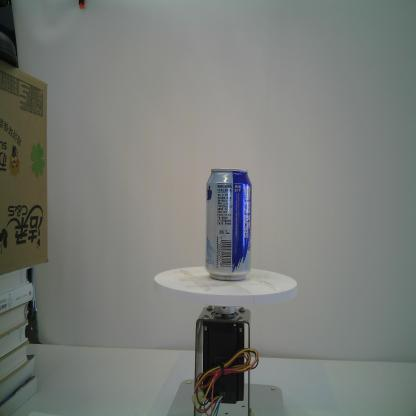Alcohol: (204, 167, 254, 282)
